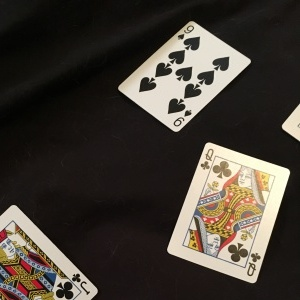card: (167, 140, 291, 283), (116, 18, 252, 134)
